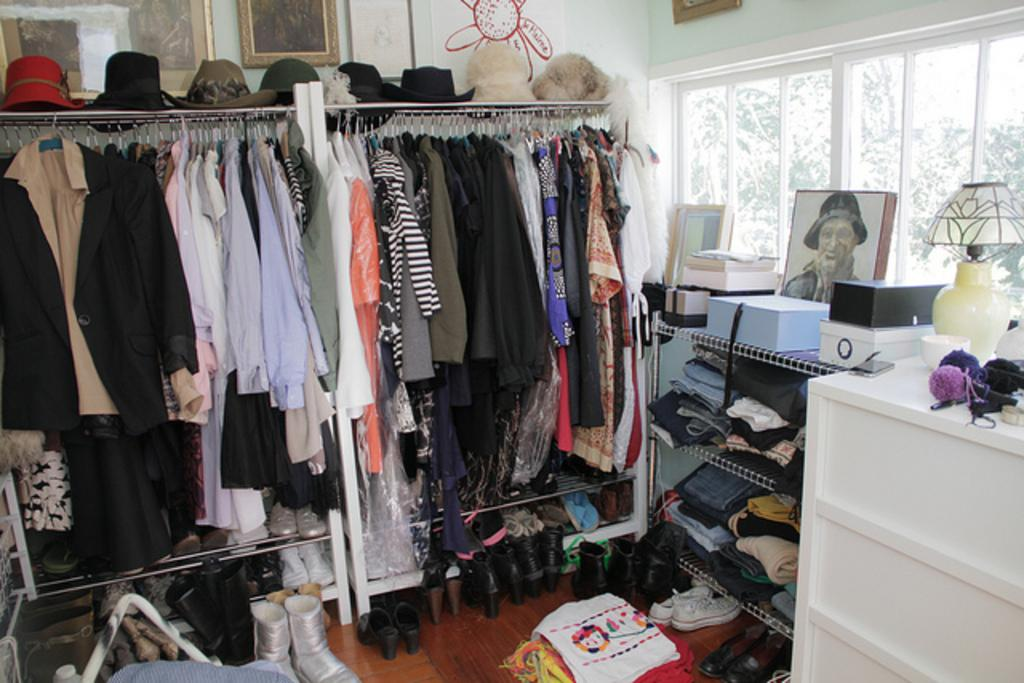cabinet_door: (815, 526, 1024, 668), (827, 405, 1024, 529), (800, 624, 894, 683)
